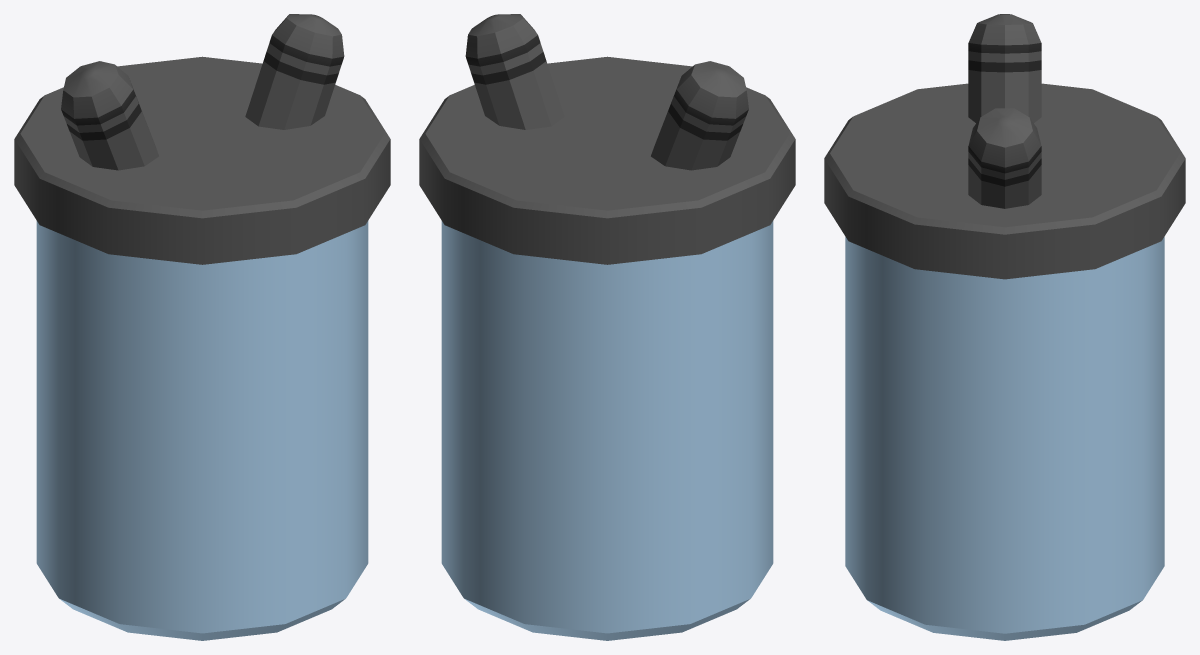
The model's file is BrainJar_02.fbx.
3 renders of one model, left to right at view 1: azimuth 30°, elevation 25°; view 2: azimuth 150°, elevation 25°; view 3: azimuth 270°, elevation 25°, orthographic. The views are drawn at different scales.
Parts seen in each view (by area): view 1: BrainJar_01; view 2: BrainJar_01; view 3: BrainJar_01.
Boxes of the visible parts, <box> form: BrainJar_01: <box>14,14,390,640</box>; BrainJar_01: <box>419,14,795,640</box>; BrainJar_01: <box>824,14,1185,640</box>.
Bounding box in the file's own units: 173 × 272 × 173.
